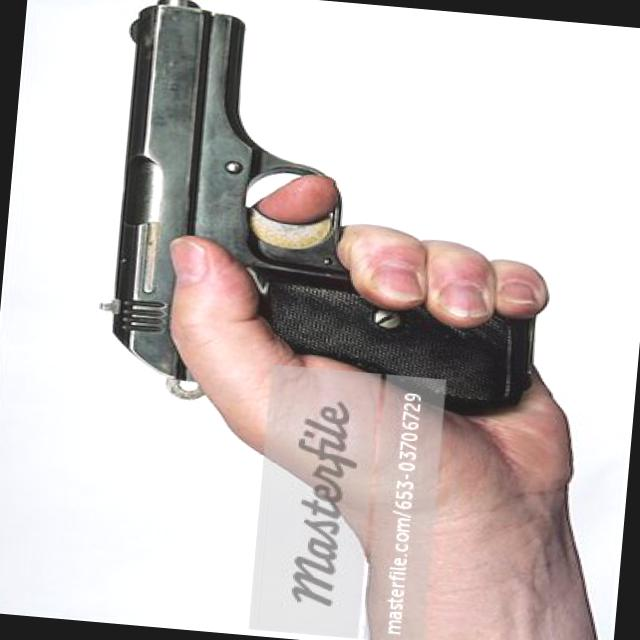handgun: (80, 0, 555, 465)
